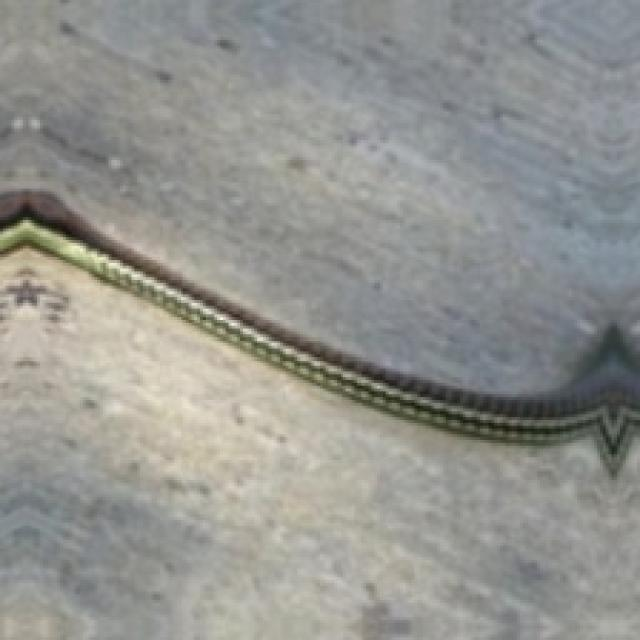philippine bronzeback treesnake: (0, 191, 637, 474)
